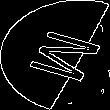M_E: (10, 24, 100, 86)
